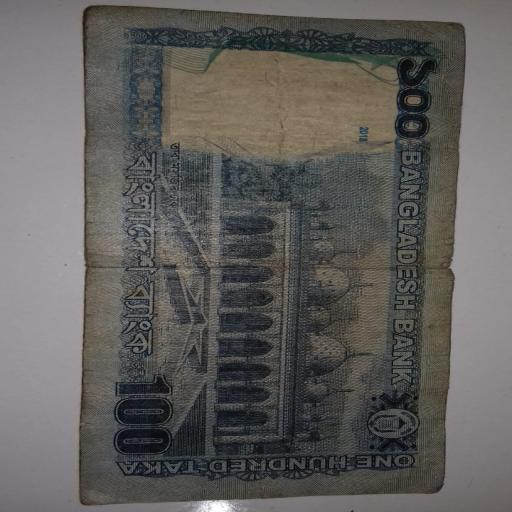100taka: (78, 2, 445, 499)
